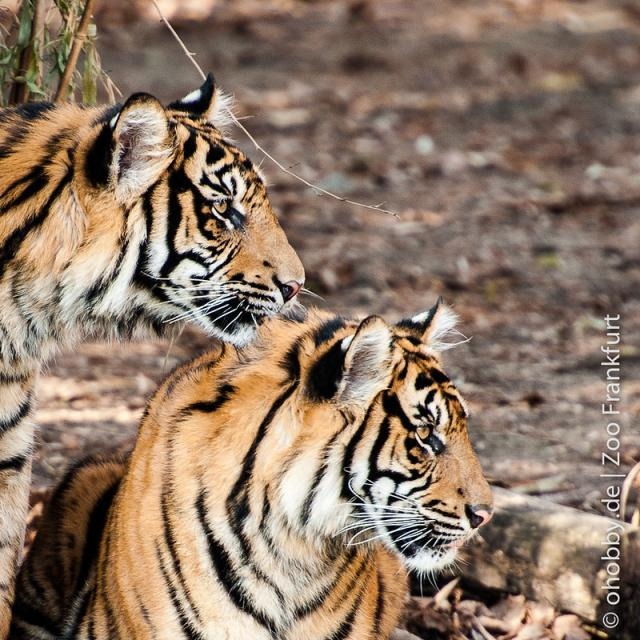Tiger: (0, 69, 315, 638), (15, 296, 498, 639)
